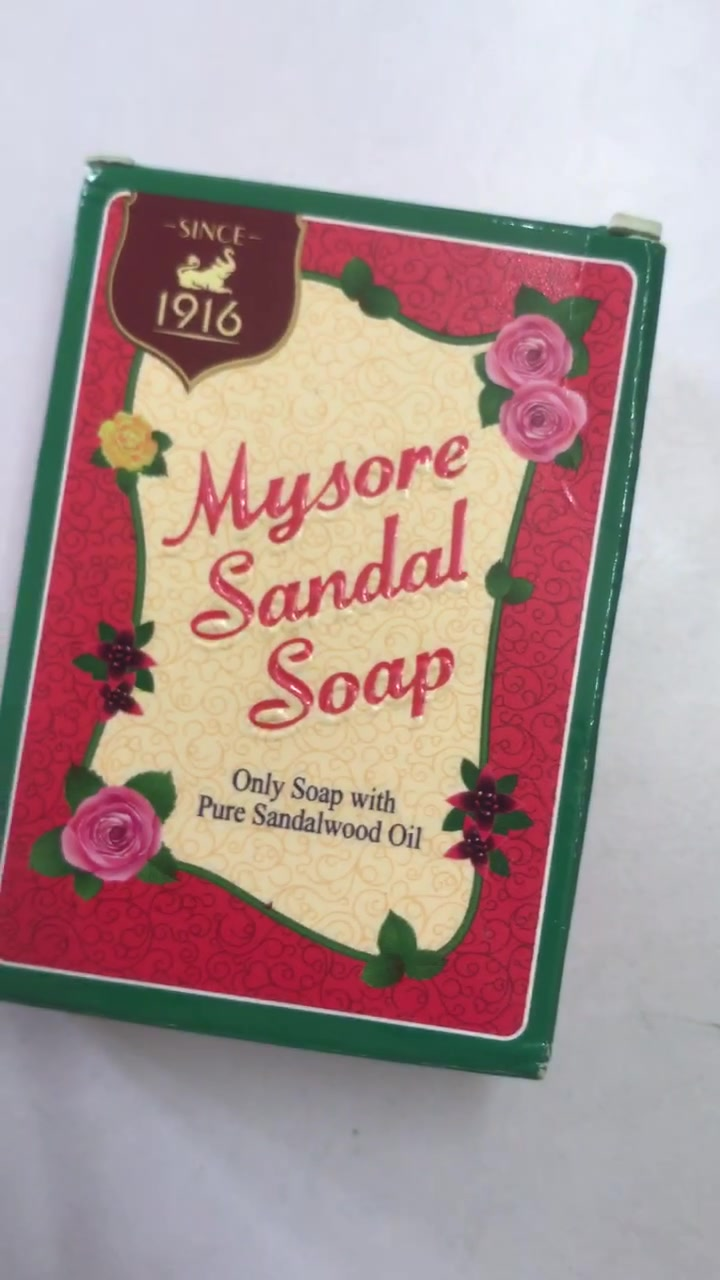mysore sandal soap: (13, 166, 663, 1074)
